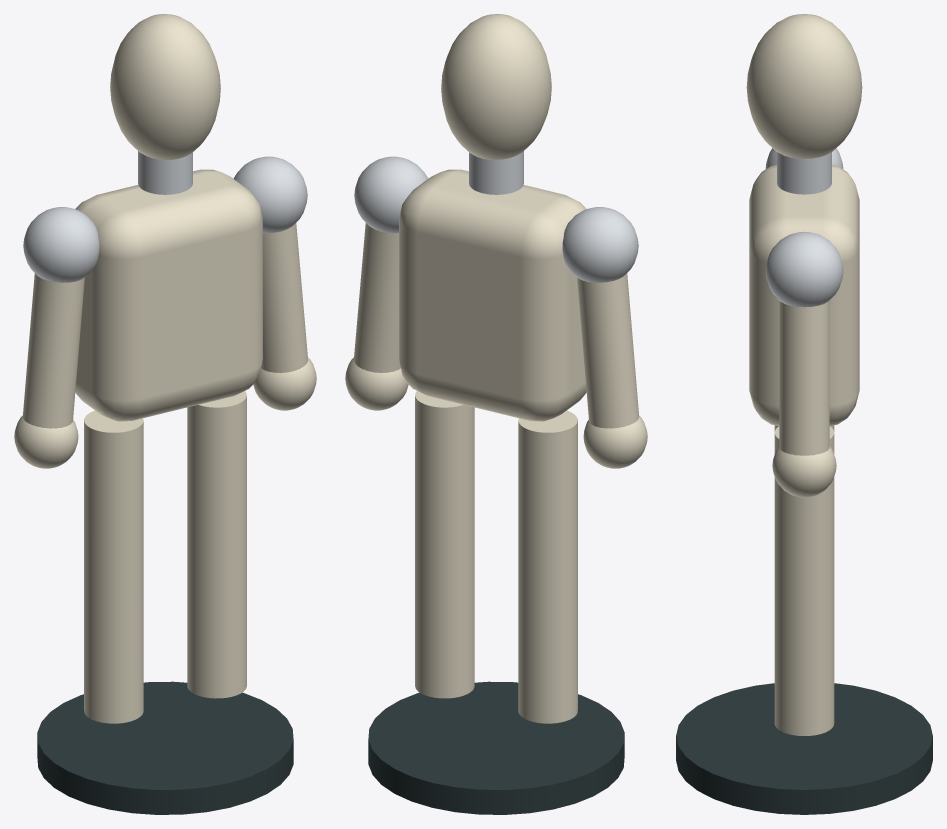
File: instructor.glb
3 renders of one model, left to right at view 1: azimuth 30°, elevation 25°; view 2: azimuth 150°, elevation 25°; view 3: azimuth 270°, elevation 25°, orthographic.
Visible parts, largest first — view 1: instructor; view 2: instructor; view 3: instructor.
Boxes of the visible parts, box(x1,y1,x2,y2) form: instructor: box(14, 14, 316, 814); instructor: box(345, 14, 647, 814); instructor: box(676, 14, 932, 814).
Bounding box in the file's own units: 0.74 × 1.79 × 0.56.
